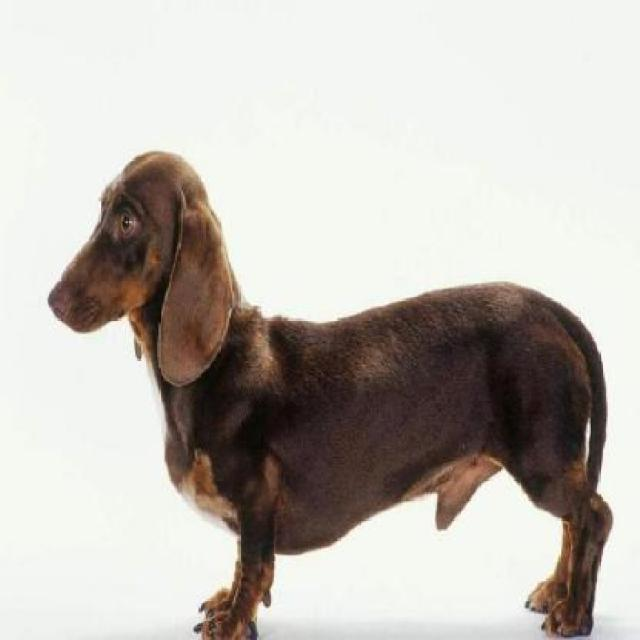Dog: (44, 136, 622, 638)
